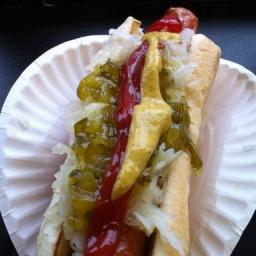hotdog: (103, 213, 150, 256), (164, 6, 200, 34)
